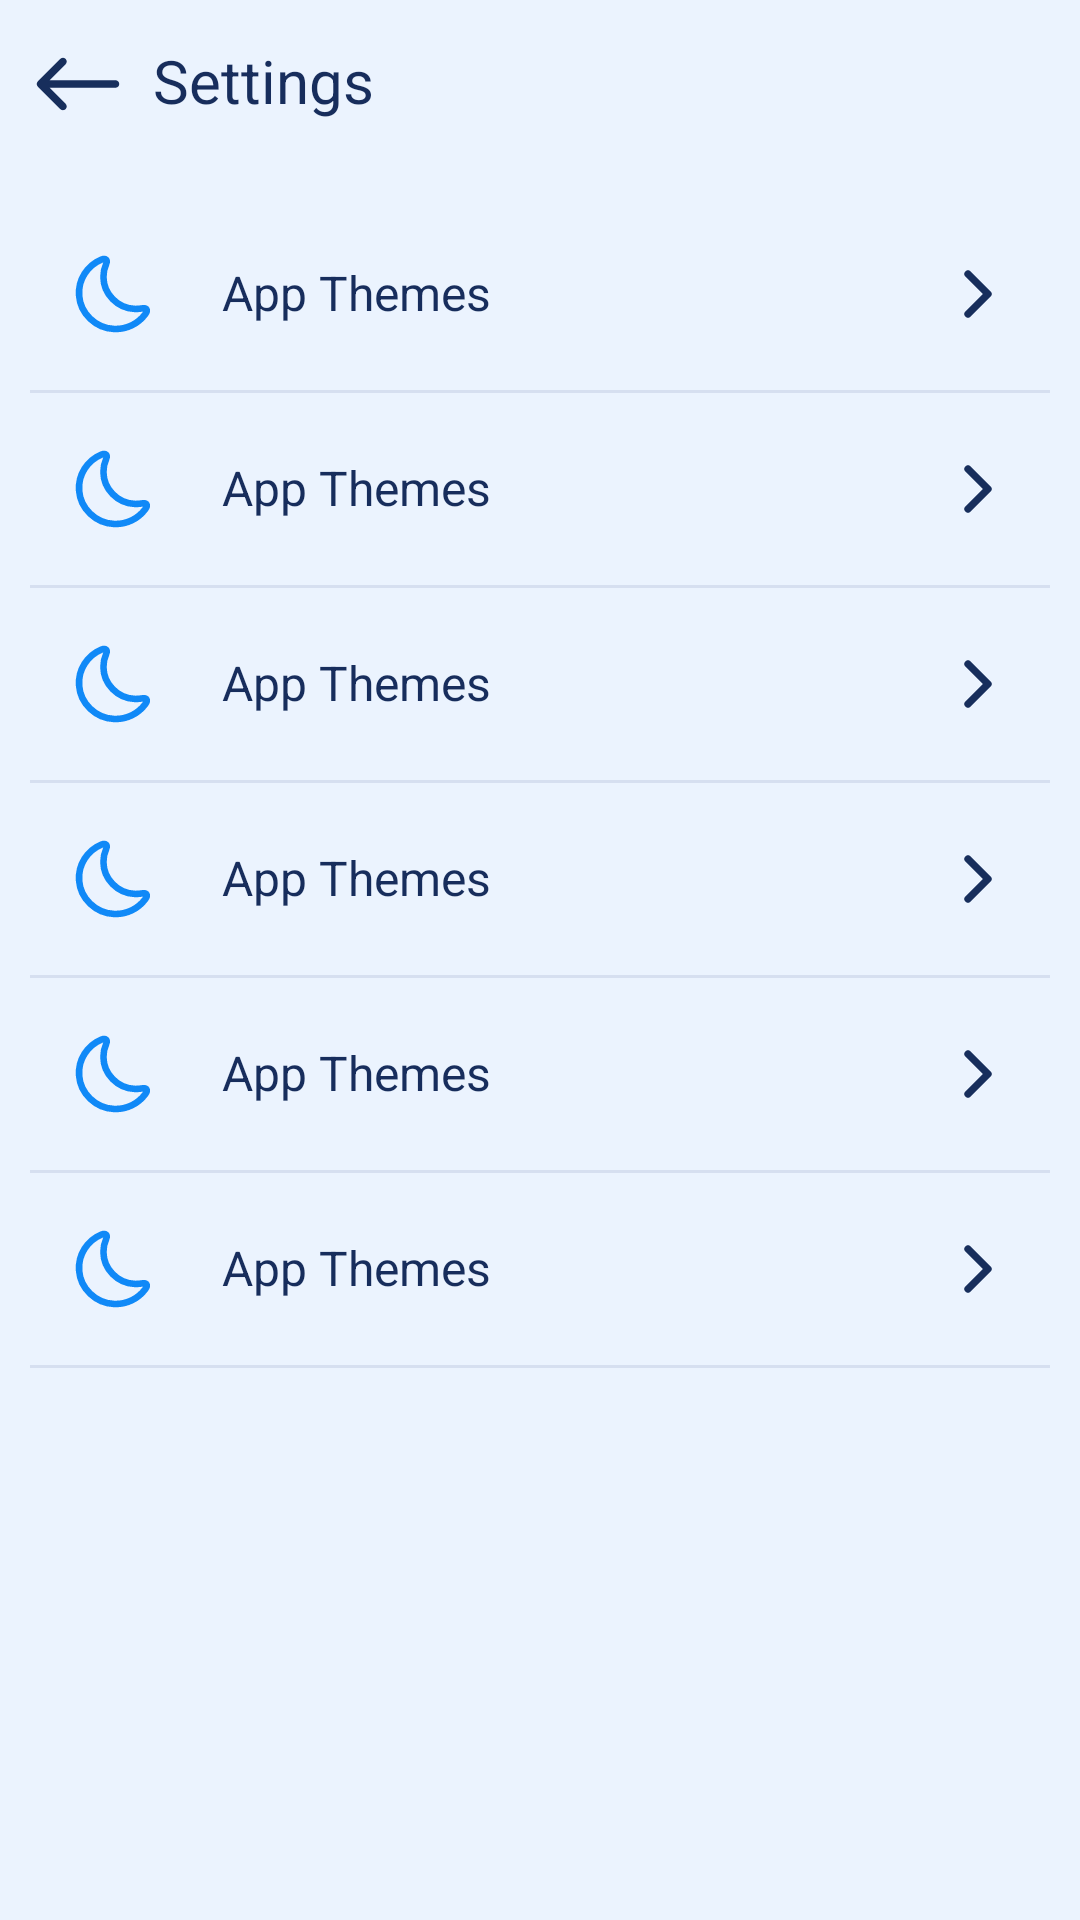

Where icons sit on this 1080*1920 app screen, as (x1, y1, x2, y2):
left arrow: (36, 57, 120, 111)
setting app theme: (75, 255, 150, 333), (75, 450, 150, 528), (75, 645, 150, 723), (75, 840, 150, 918), (75, 1035, 150, 1113), (75, 1230, 150, 1308)
setting right: (964, 270, 992, 318), (964, 465, 992, 513), (964, 660, 992, 708), (964, 855, 992, 903), (964, 1050, 992, 1098), (964, 1245, 992, 1293)
